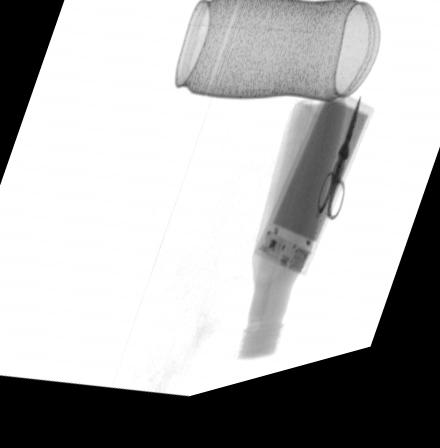Powerbank: (252, 100, 377, 290)
Scissors: (317, 100, 365, 235)
